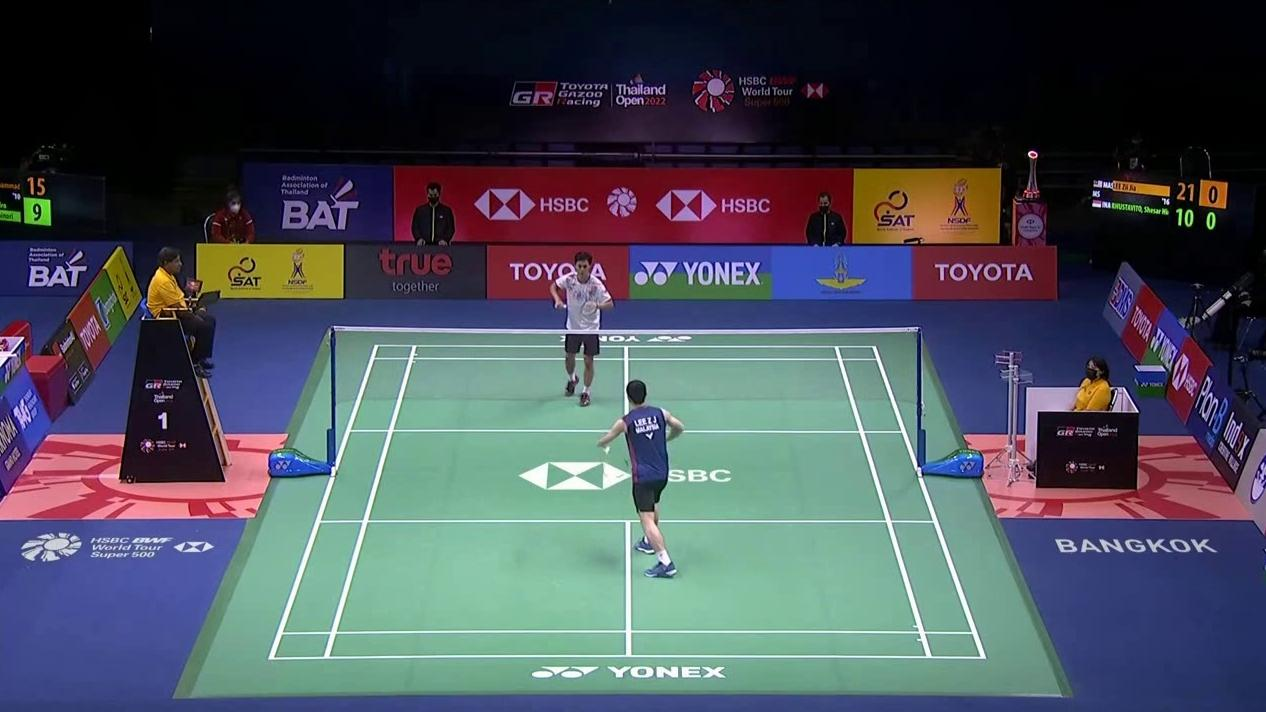racket: (603, 439, 660, 478), (555, 299, 598, 315)
shuttle: (601, 445, 610, 455)
